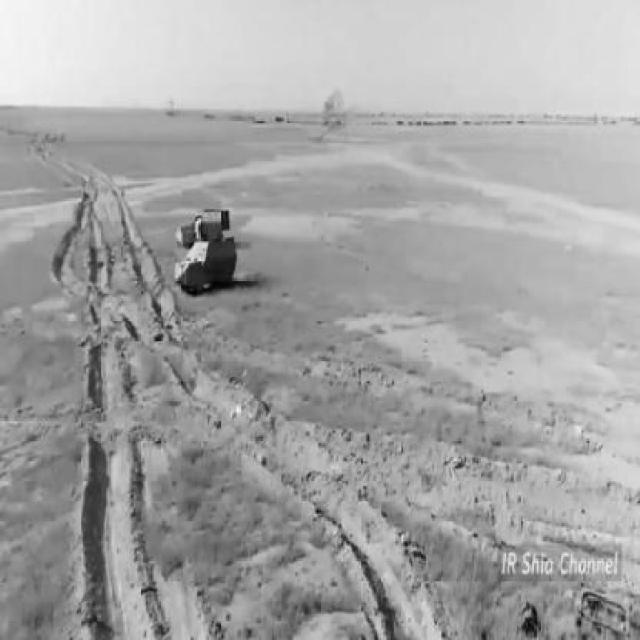Vehicle: (174, 236, 240, 297), (175, 205, 230, 246)
